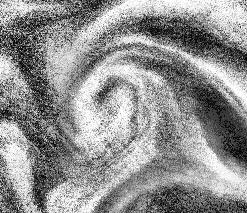CE: (46, 45, 170, 157)
